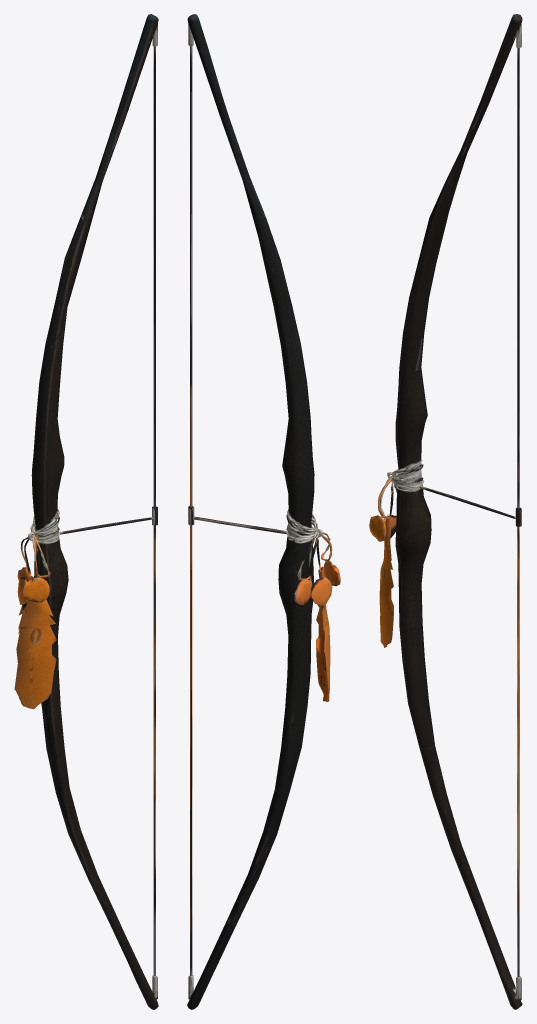
Rendered from magpies-hoard-bow-r2_refine.glb.
3 views of the same model, side by side, from view 1: azimuth 30°, elevation 25°; view 2: azimuth 150°, elevation 25°; view 3: azimuth 330°, elevation 25° (orthographic).
Size of the model in its own units: 0.1436 by 0.9512 by 0.0562.
Materials: 1 (1 with a texture image).
